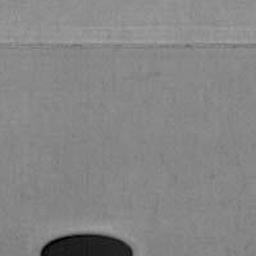Punching: (40, 234, 133, 256)
